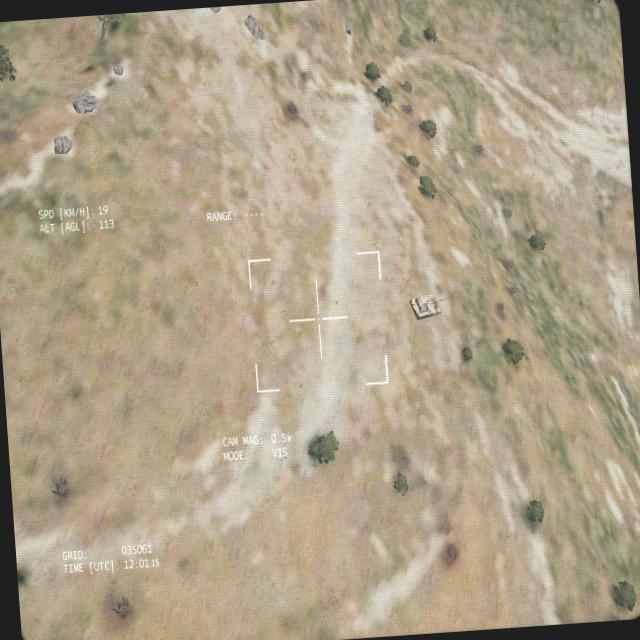tank: (408, 292, 448, 322)
